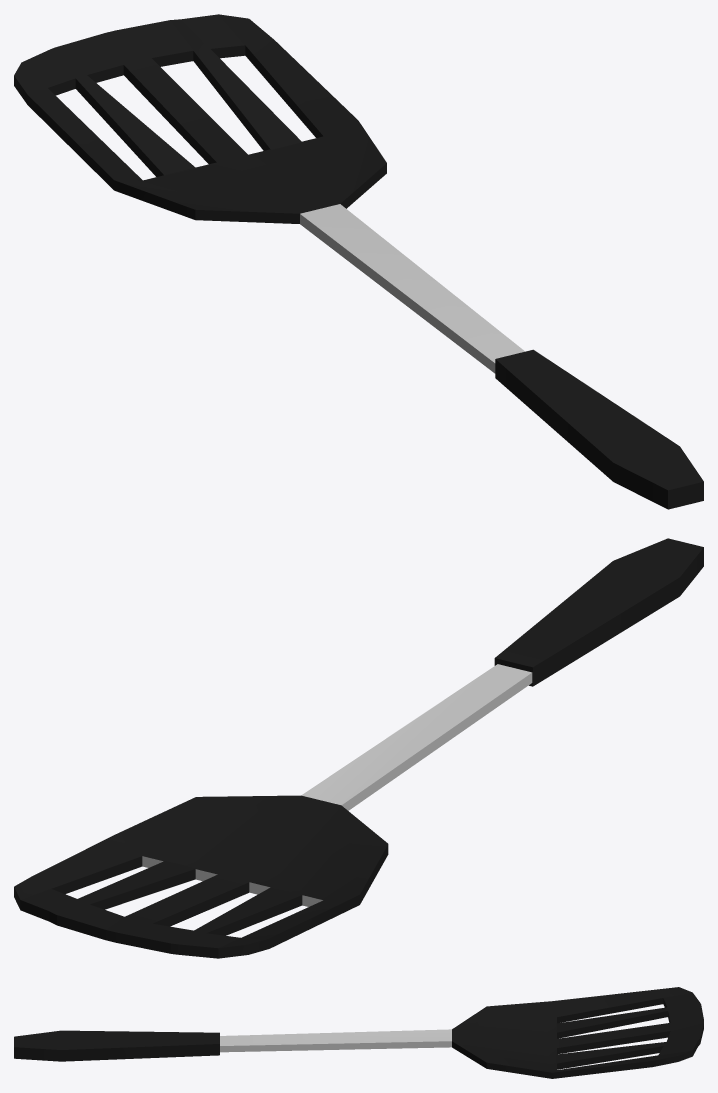
File: Spatula_3.FBX
3 renders of one model, top to bottom at view 1: azimuth 30°, elevation 25°; view 2: azimuth 150°, elevation 25°; view 3: azimuth 270°, elevation 25°, orthographic. The views are drawn at different scales.
Parts seen in each view (by area): view 1: Spatula; view 2: Spatula; view 3: Spatula.
Part boxes in pixels (x1,y1,x2,y2): Spatula: (14,14,703,509); Spatula: (14,538,703,958); Spatula: (14,987,703,1078).
Bounding box in the file's own units: 24.64 × 5.11 × 100.
